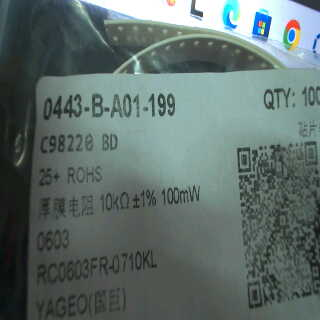10kR: (97, 189, 131, 217)
